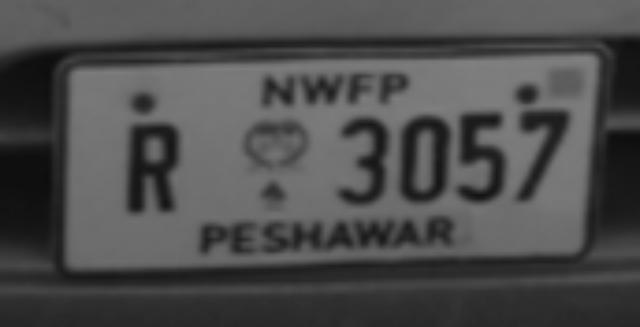Number: (126, 110, 574, 217)
